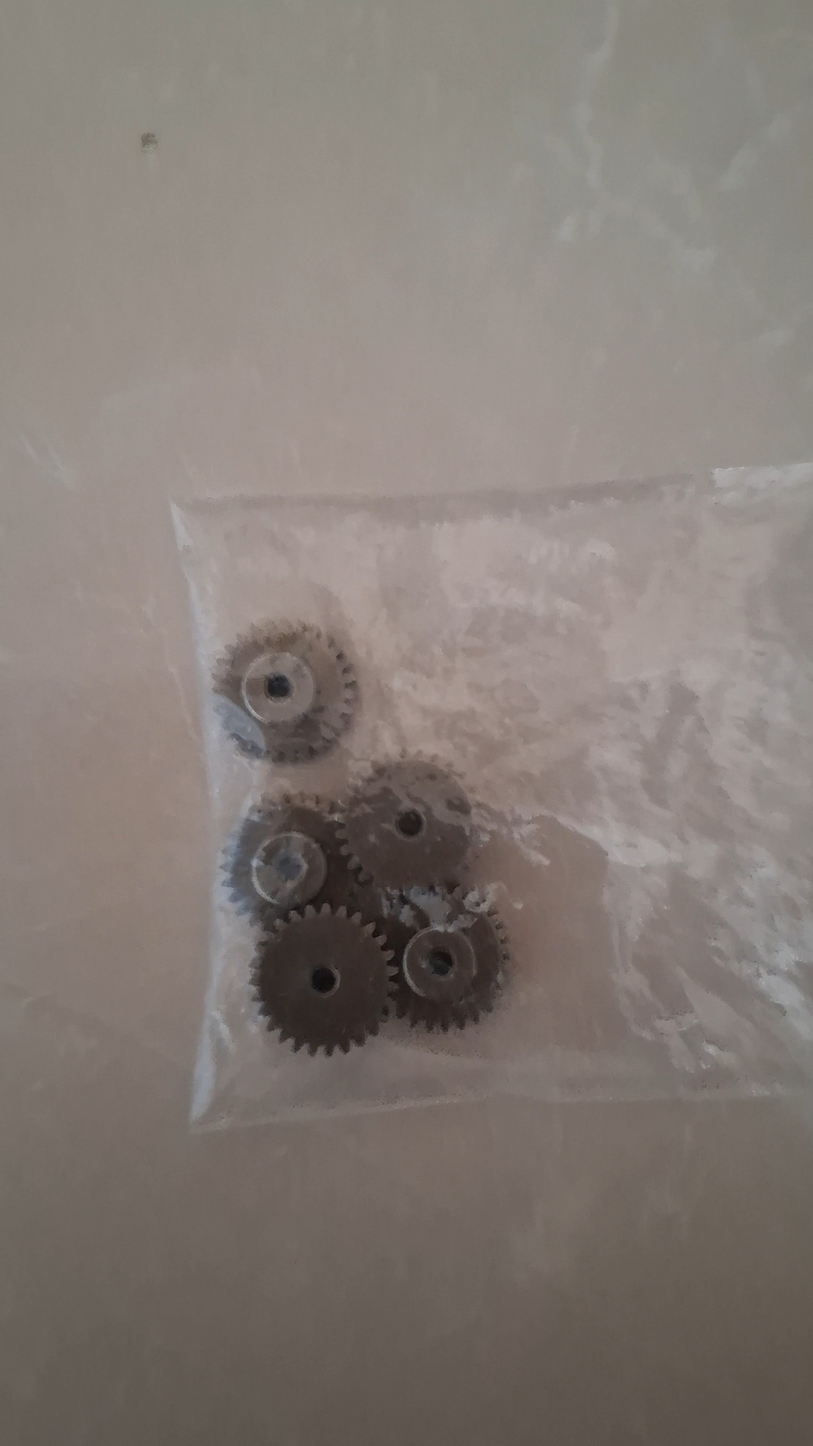spur gear: (253, 905, 394, 1055), (213, 623, 357, 763), (342, 757, 470, 889), (393, 888, 508, 1031), (223, 795, 349, 918)
